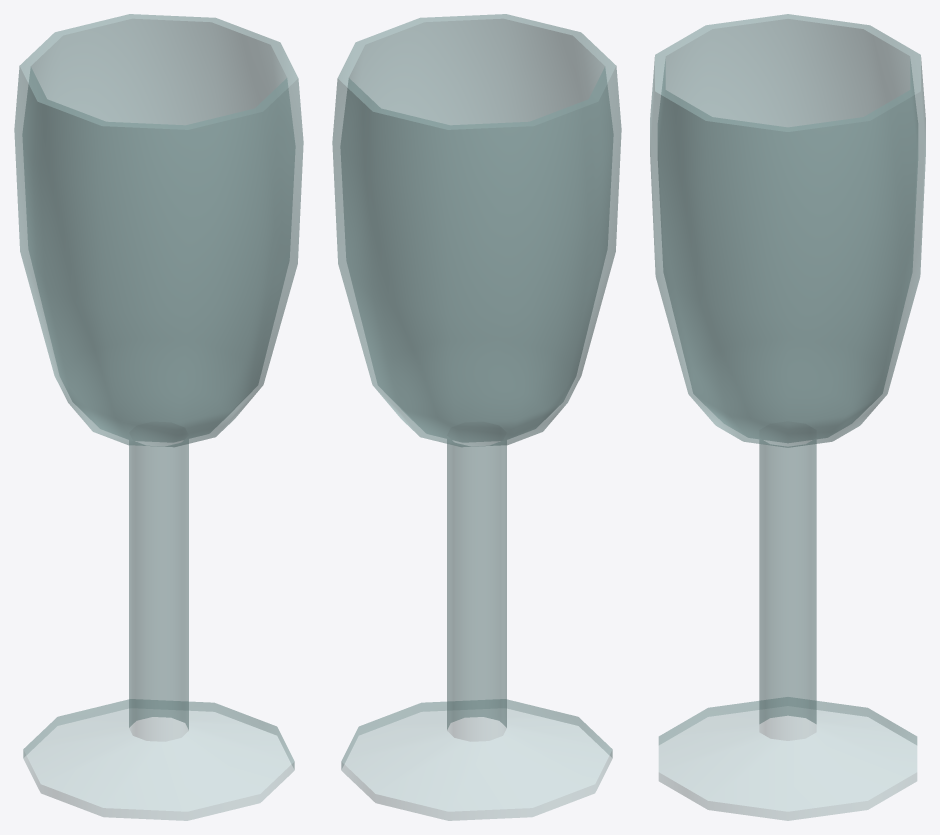
File: WineGlass.fbx
3 renders of one model, left to right at view 1: azimuth 30°, elevation 25°; view 2: azimuth 150°, elevation 25°; view 3: azimuth 270°, elevation 25°, orthographic.
Parts seen in each view (by area): view 1: pPipe2; view 2: pPipe2; view 3: pPipe2.
Boxes of the visible parts, <box> form: pPipe2: <box>14,14,303,820</box>; pPipe2: <box>332,14,621,820</box>; pPipe2: <box>650,14,925,820</box>.
Bounding box in the file's own units: 25.68 × 67.46 × 24.42.
